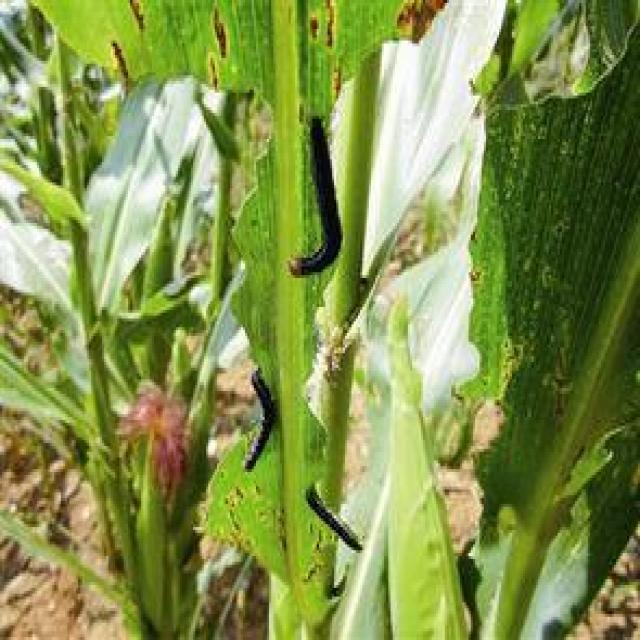armyworm: (291, 102, 355, 286), (245, 369, 282, 483)
